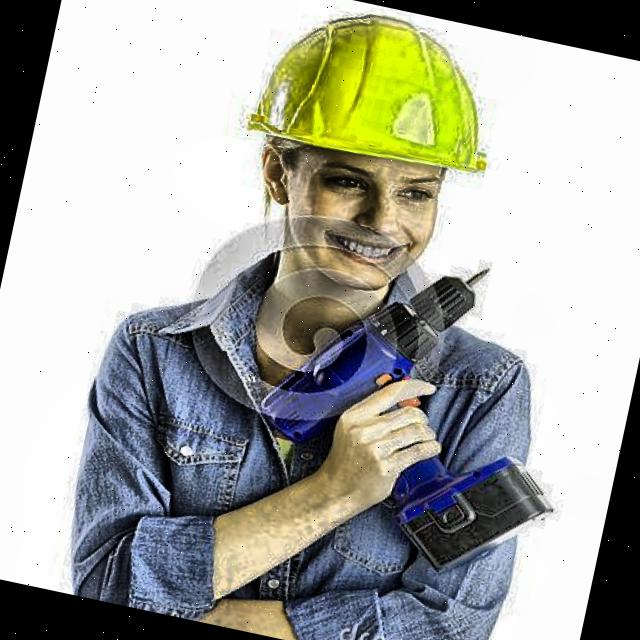helmet: (182, 0, 547, 350)
